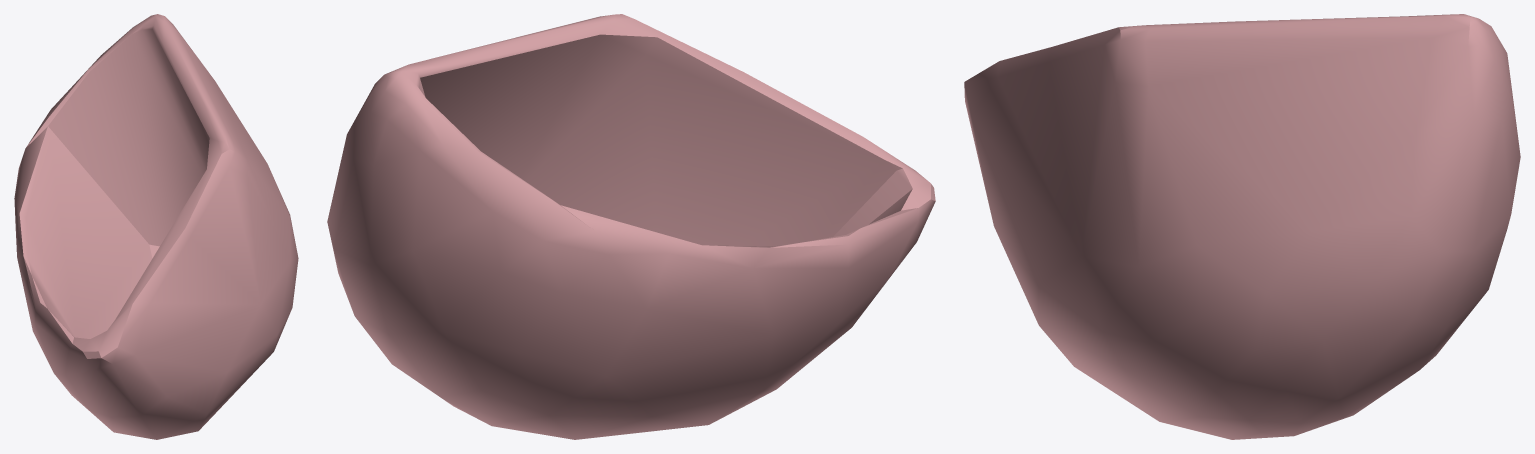
Rendered from fma7252_fj2431.glb.
3 renders of one model, left to right at view 1: azimuth 30°, elevation 25°; view 2: azimuth 150°, elevation 25°; view 3: azimuth 270°, elevation 25°, orthographic. The views are drawn at different scales.
Parts seen in each view (by area): view 1: FMA7252_FJ2431; view 2: FMA7252_FJ2431; view 3: FMA7252_FJ2431.
Part boxes in pixels (x1,y1,x2,y2): FMA7252_FJ2431: (14,14,298,439); FMA7252_FJ2431: (327,14,935,439); FMA7252_FJ2431: (964,14,1520,439).
Bounding box in the file's own units: 0.0176 × 0.0171 × 0.019.
